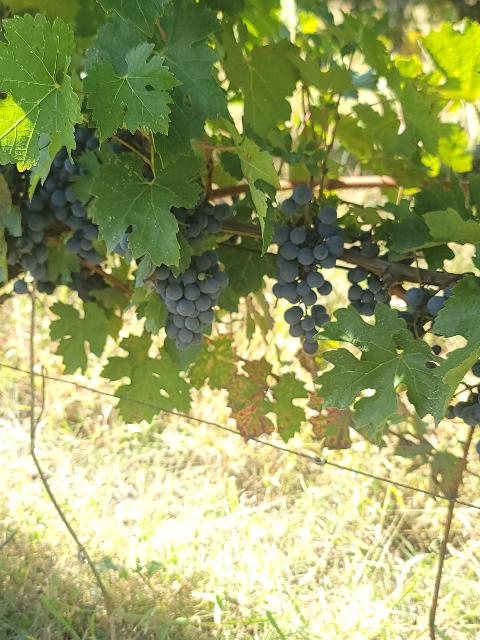grapes: (272, 205, 344, 354), (155, 250, 229, 350)
